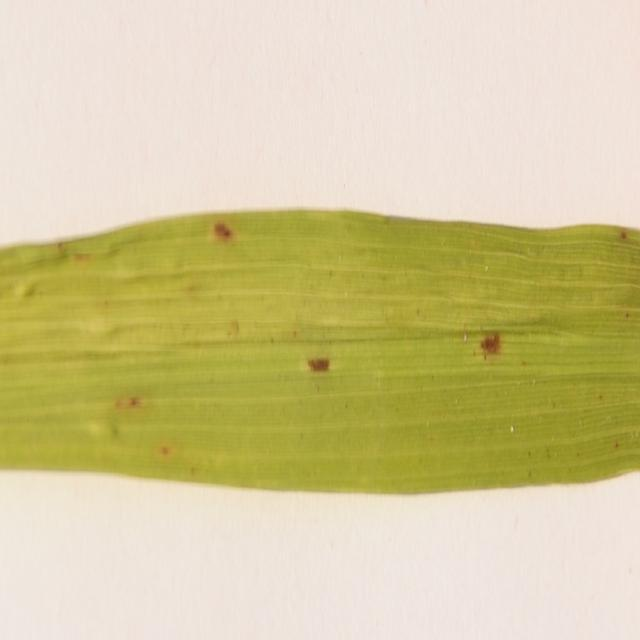brownspots: (300, 347, 329, 391), (479, 311, 502, 365), (155, 432, 175, 472), (210, 218, 234, 248), (120, 385, 140, 418)
